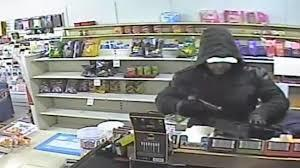weapon: (193, 94, 224, 115)
